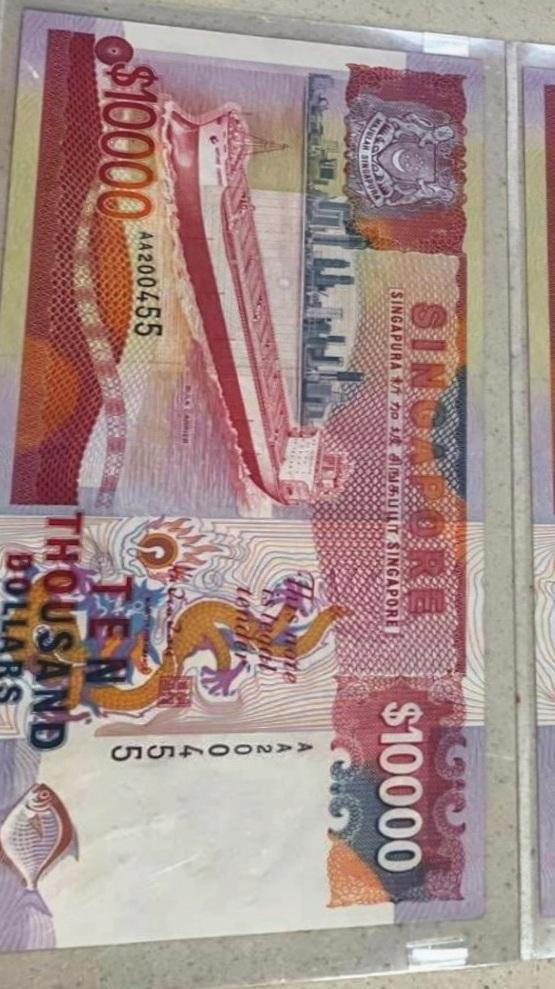10000SingaporeDollar: (0, 44, 490, 925)
